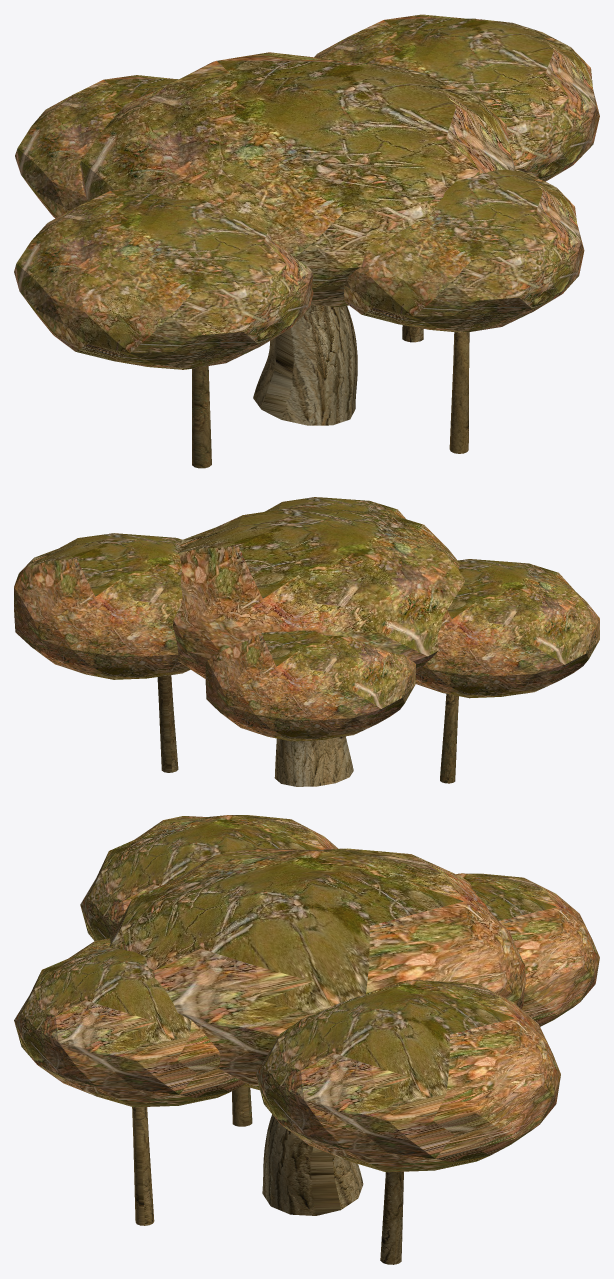
File: banyan_fig.glb
3 renders of one model, top to bottom at view 1: azimuth 30°, elevation 25°; view 2: azimuth 150°, elevation 25°; view 3: azimuth 270°, elevation 25°, orthographic. The views are drawn at different scales.
Parts seen in each view (by area): view 1: Banyan_Canopy_Center, Banyan_Canopy_West, Banyan_Canopy_South, Banyan_Canopy_East, Banyan_Central_Trunk, Banyan_Canopy_North, Prop_Root_S1, Prop_Root_W1; view 2: Banyan_Canopy_Center, Banyan_Canopy_East, Banyan_Canopy_West, Banyan_Canopy_North, Banyan_Central_Trunk, Prop_Root_E1, Prop_Root_W1, Banyan_Canopy_South; view 3: Banyan_Canopy_Center, Banyan_Canopy_East, Banyan_Canopy_South, Banyan_Canopy_West, Banyan_Canopy_North, Banyan_Central_Trunk, Prop_Root_S1, Prop_Root_E1, Prop_Root_W1.
Boxes of the visible parts, box(x1,y1,x2,y2) form: Banyan_Canopy_Center: box(80, 52, 514, 306); Banyan_Canopy_West: box(14, 189, 313, 369); Banyan_Canopy_South: box(343, 168, 584, 332); Banyan_Canopy_East: box(314, 14, 599, 181); Banyan_Central_Trunk: box(253, 305, 357, 425); Banyan_Canopy_North: box(15, 75, 178, 218); Prop_Root_S1: box(449, 332, 469, 453); Prop_Root_W1: box(192, 366, 211, 468); Banyan_Canopy_Center: box(173, 505, 464, 678); Banyan_Canopy_East: box(14, 533, 190, 679); Banyan_Canopy_West: box(415, 559, 599, 698); Banyan_Canopy_North: box(205, 630, 415, 741); Banyan_Central_Trunk: box(274, 736, 353, 786); Prop_Root_E1: box(157, 675, 178, 772); Prop_Root_W1: box(440, 693, 458, 783); Banyan_Canopy_South: box(265, 497, 405, 518); Banyan_Canopy_Center: box(109, 847, 525, 1090); Banyan_Canopy_East: box(255, 980, 560, 1172); Banyan_Canopy_South: box(14, 938, 244, 1107); Banyan_Canopy_West: box(80, 815, 338, 940); Banyan_Canopy_North: box(456, 873, 599, 1026); Banyan_Central_Trunk: box(262, 1114, 363, 1215); Prop_Root_S1: box(132, 1107, 154, 1225); Prop_Root_E1: box(380, 1171, 403, 1264); Prop_Root_W1: box(232, 1086, 252, 1126).
Size of the model in its own units: 18.53 by 8.89 by 15.
Materials: 2 (2 with a texture image).
